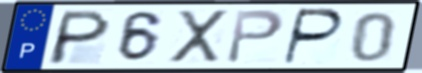0: (350, 10, 401, 63)
6: (113, 10, 165, 64)
P: (44, 8, 115, 66), (280, 7, 347, 66), (223, 8, 286, 65)
X: (169, 8, 230, 65)
